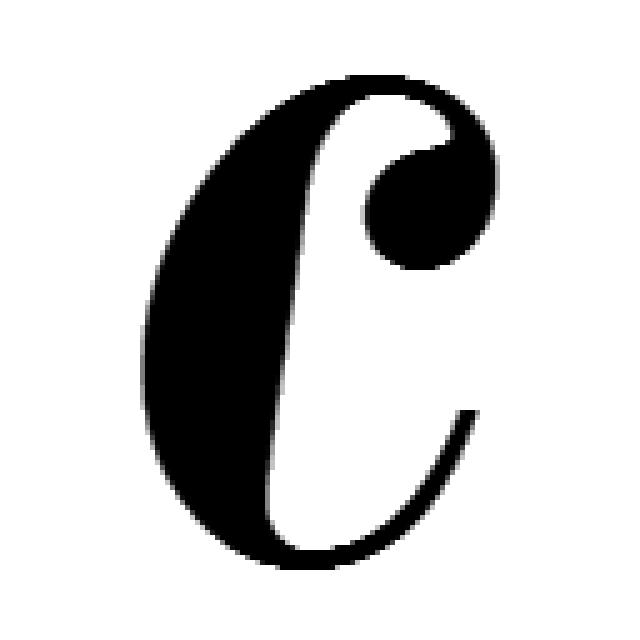C: (140, 75, 495, 570)
